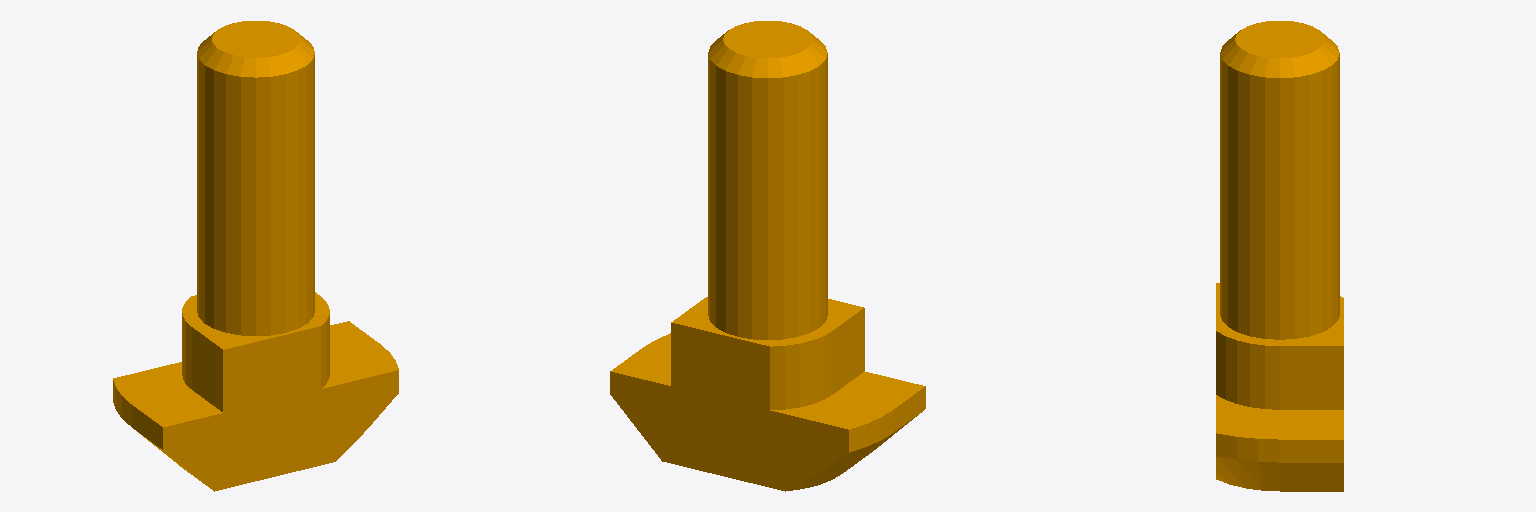
URDF robot description (T-BOLT-M8X25):
<?xml version="1.0"?>
<robot name="T-BOLT-M8X25">
  <link name="T-BOLT-M8X25">
    <visual>
      <origin rpy="0 3.14159 0" xyz="0 0 0"/>
      <!-- <origin xyz="0.0 0.0 0.0"/> -->
      <geometry>
        <mesh filename="../mesh/factory_nut_bolt/T-BOLT-M8X25.obj" scale="0.005 0.005 0.005"/>
      </geometry>
    </visual>
    <collision>
      <origin xyz="0.0 0.0 0.0"/>
      <geometry>
        <mesh filename="../mesh/factory_nut_bolt/T-BOLT-M8X25.obj" scale="0.005 0.005 0.005"/>
      </geometry>
      <sdf resolution="512"/>
    </collision>
  </link>
</robot>

--- Facts derived from the render (not from the file) ---
The picture shows the robot from 3 angles, left to right: view 1: azimuth 30°, elevation 25°; view 2: azimuth 150°, elevation 25°; view 3: azimuth 270°, elevation 25°; orthographic projection.
Robot: T-BOLT-M8X25 — 1 links, 0 joints (none); root link T-BOLT-M8X25; default pose: every joint at zero.
Visible links, largest first — view 1: T-BOLT-M8X25; view 2: T-BOLT-M8X25; view 3: T-BOLT-M8X25.
Link boxes in pixels (<box>): T-BOLT-M8X25: <box>113,21,398,491</box>; T-BOLT-M8X25: <box>610,21,925,491</box>; T-BOLT-M8X25: <box>1216,21,1343,491</box>.
Bounding box of the posed robot: 0.097 × 0.0425 × 0.1535 m (x, y, z).
1 mesh visuals loaded from 1 distinct referenced files (1 OBJ).